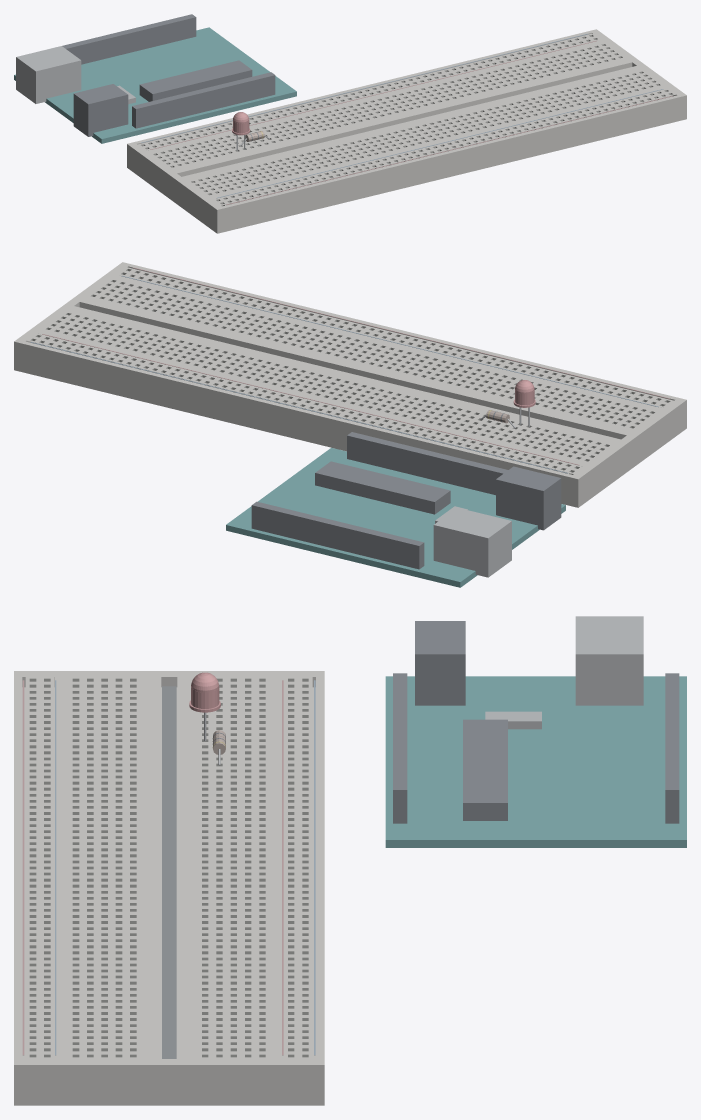
The model's file is step-3.glb.
3 views of the same model, one above another, from view 1: azimuth 30°, elevation 25°; view 2: azimuth 150°, elevation 25°; view 3: azimuth 270°, elevation 25° (orthographic). The views are drawn at different scales.
Visible parts, largest first — view 1: breadboard__mesh, uno__mesh, red_led__mesh; view 2: breadboard__mesh, uno__mesh, red_led__mesh; view 3: breadboard__mesh, uno__mesh, red_led__mesh.
Boxes of the visible parts, x1,y1,x2,y2 form: breadboard__mesh: (127,29,686,233); uno__mesh: (14,14,296,143); red_led__mesh: (232,112,250,150); breadboard__mesh: (14,262,686,507); uno__mesh: (226,432,565,587); red_led__mesh: (513,380,535,426); breadboard__mesh: (14,671,324,1105); uno__mesh: (385,616,686,847); red_led__mesh: (189,672,220,741).
Bounding box in the file's own units: 0.1713 × 0.0205 × 0.1192.
